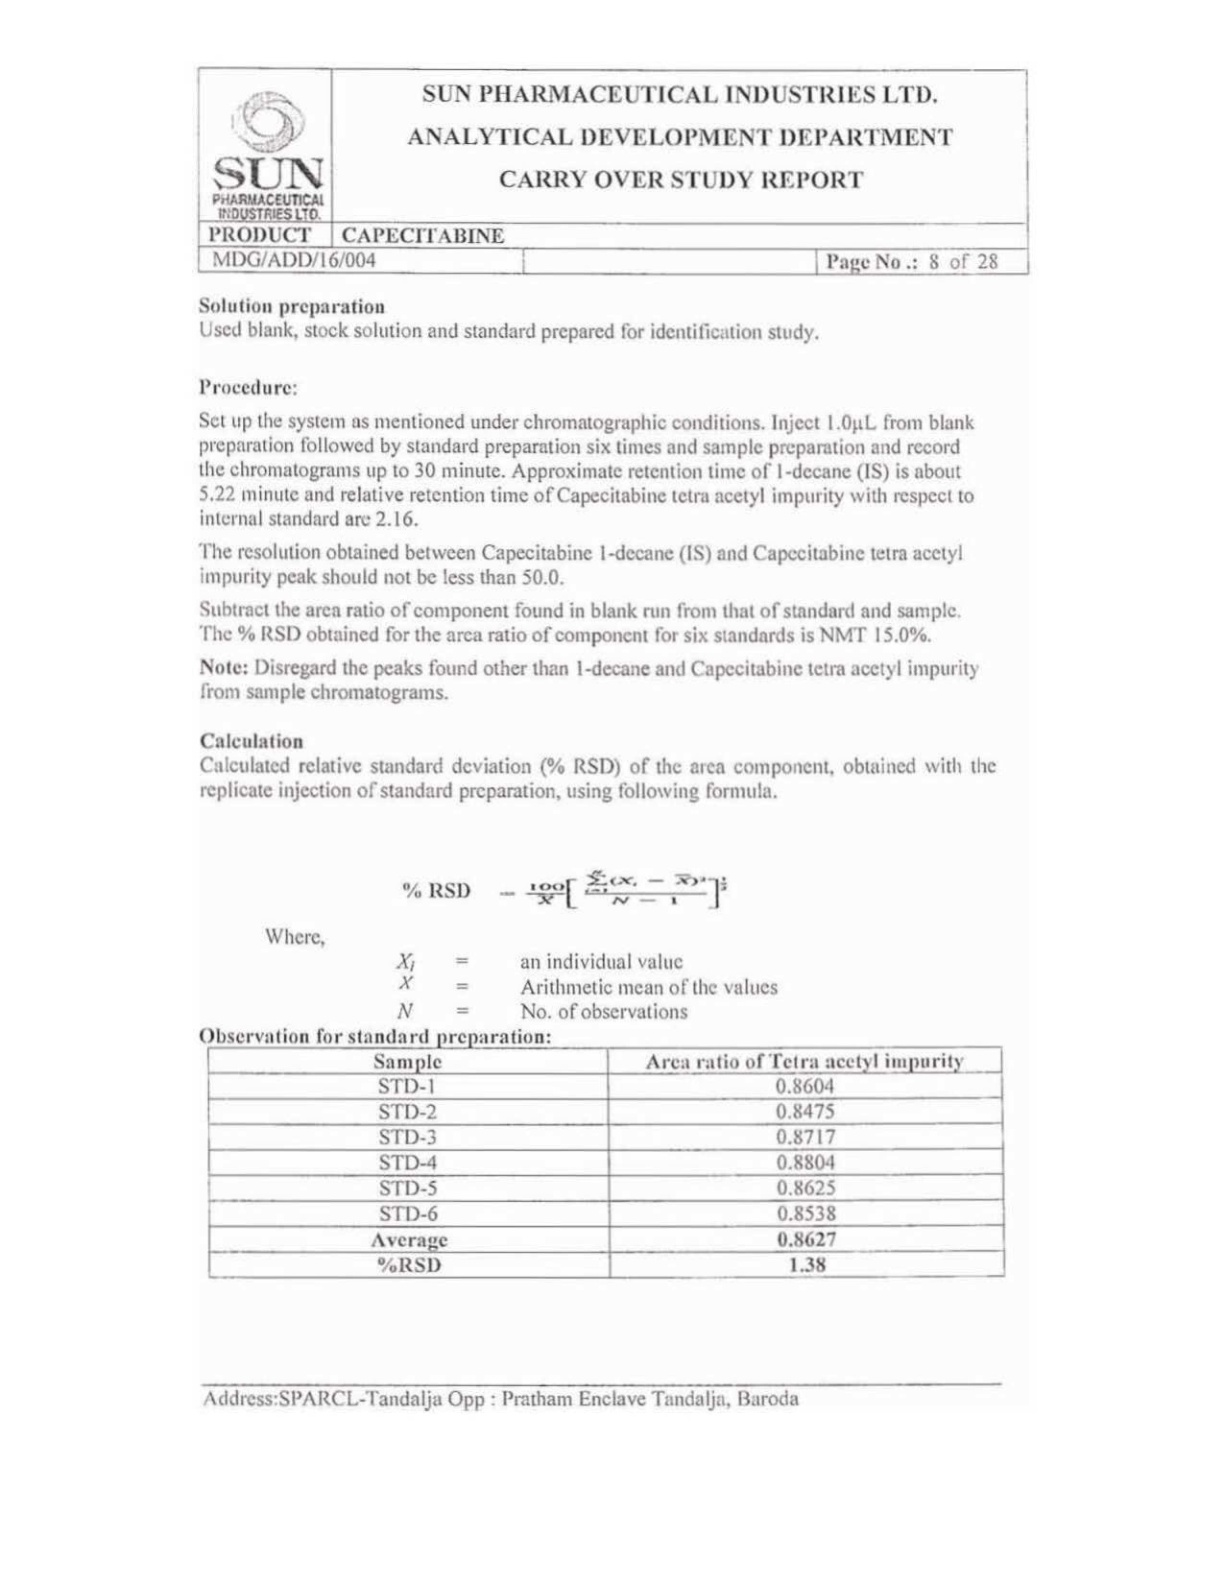full_lined: (204, 1045, 1007, 1279)
merged_cells: (195, 64, 1031, 276)
